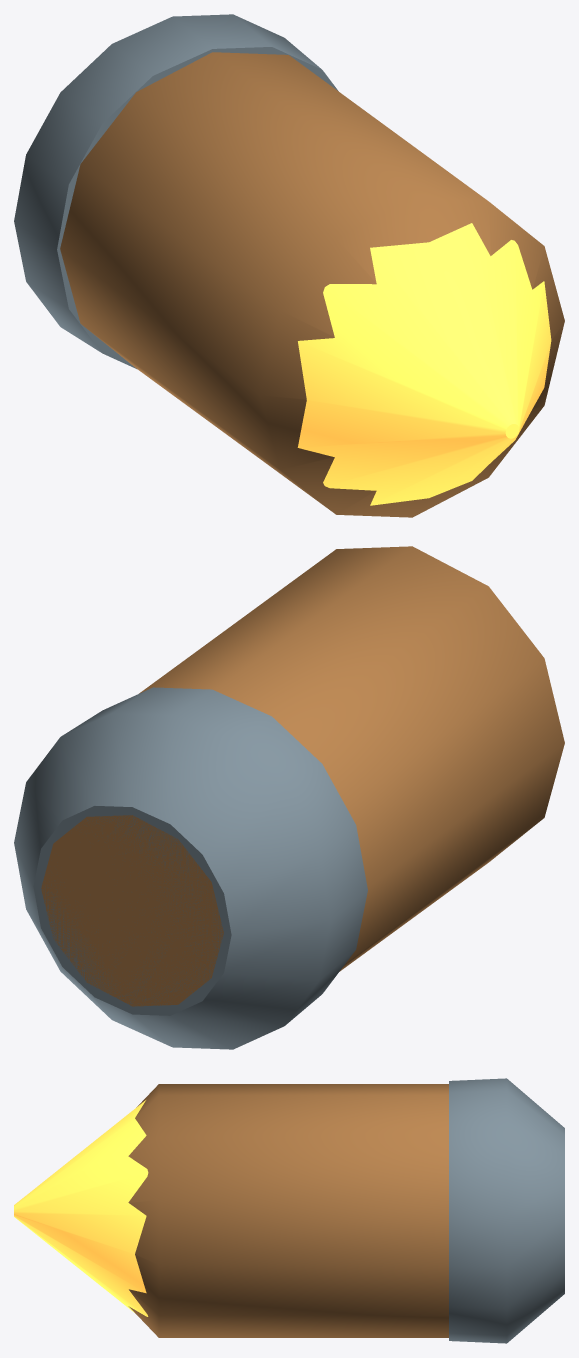
Rendered from zb_shotgun.glb.
3 renders of one model, top to bottom at view 1: azimuth 30°, elevation 25°; view 2: azimuth 150°, elevation 25°; view 3: azimuth 270°, elevation 25°, orthographic. The views are drawn at different scales.
Visible parts, largest first — view 1: zb_shotgun / Copper driving band, zb_shotgun / Tracer ember, zb_shotgun / Machined titanium; view 2: zb_shotgun / Copper driving band, zb_shotgun / Machined titanium; view 3: zb_shotgun / Copper driving band, zb_shotgun / Machined titanium, zb_shotgun / Tracer ember.
Boxes of the visible parts, bbox=[...] form: zb_shotgun / Copper driving band: bbox=[60, 52, 564, 517]; zb_shotgun / Tracer ember: bbox=[297, 223, 551, 505]; zb_shotgun / Machined titanium: bbox=[14, 14, 338, 368]; zb_shotgun / Copper driving band: bbox=[41, 546, 564, 1006]; zb_shotgun / Machined titanium: bbox=[14, 687, 367, 1049]; zb_shotgun / Copper driving band: bbox=[128, 1084, 448, 1337]; zb_shotgun / Machined titanium: bbox=[449, 1078, 564, 1343]; zb_shotgun / Tracer ember: bbox=[14, 1100, 148, 1316].
Bounding box in the file's own units: 4.58 × 4.58 × 9.5.
